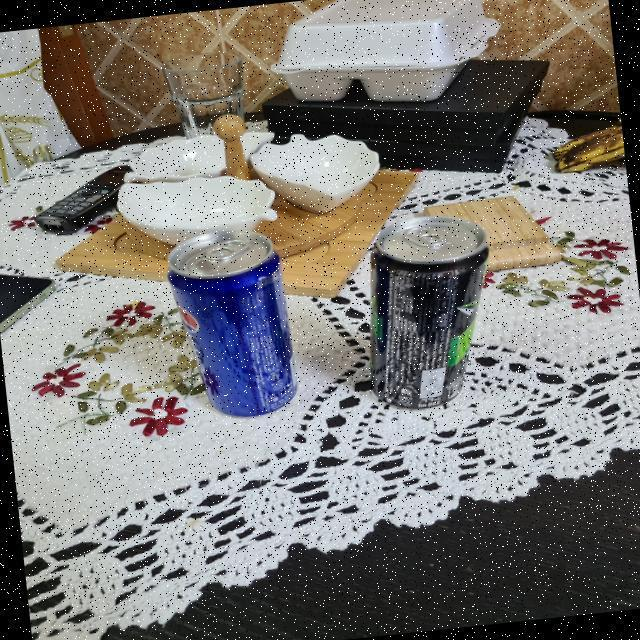can: (344, 210, 511, 415), (164, 223, 303, 422)
